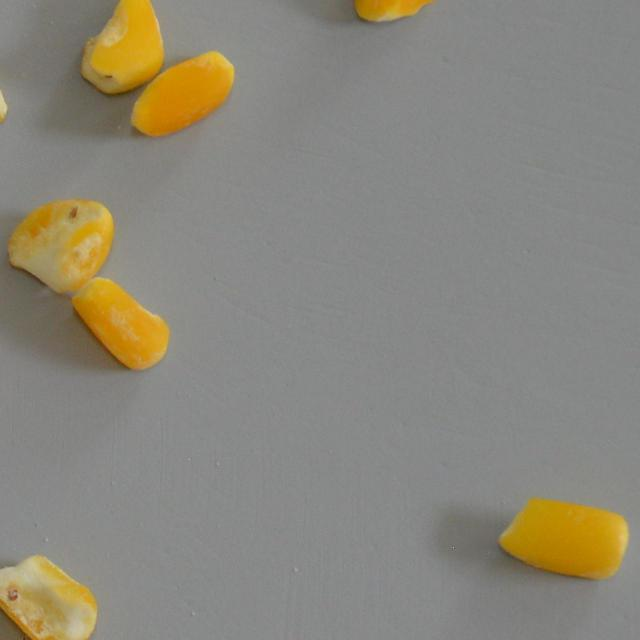dañado: (8, 192, 116, 294), (0, 550, 100, 640)
estandar: (498, 481, 626, 586), (124, 40, 240, 146), (340, 0, 456, 30)
pelicula: (70, 274, 170, 368)
punto_negro: (74, 0, 167, 96)
